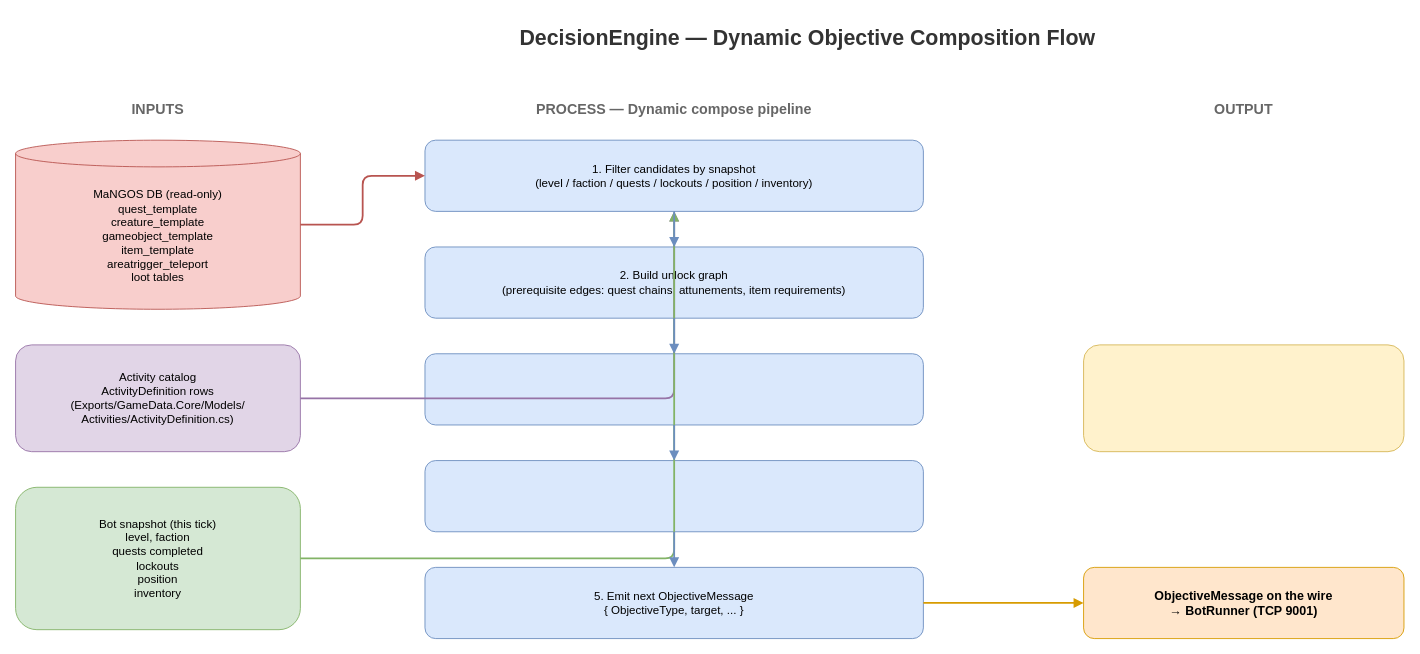
The diagram is 1420 pixels wide and 654 high, and some of its shapes have lost their labels. The box of each missing label's shape, as (x1, y1, x2, y2) in pixels:
3. Select Activity (catalog row): (424, 353, 923, 425)
4. Decompose Activity → Objectives (DAG of state changes): (424, 460, 923, 532)
Recomposed continuously from live snapshot — Objectives are NOT a static script.: (1083, 344, 1404, 452)
